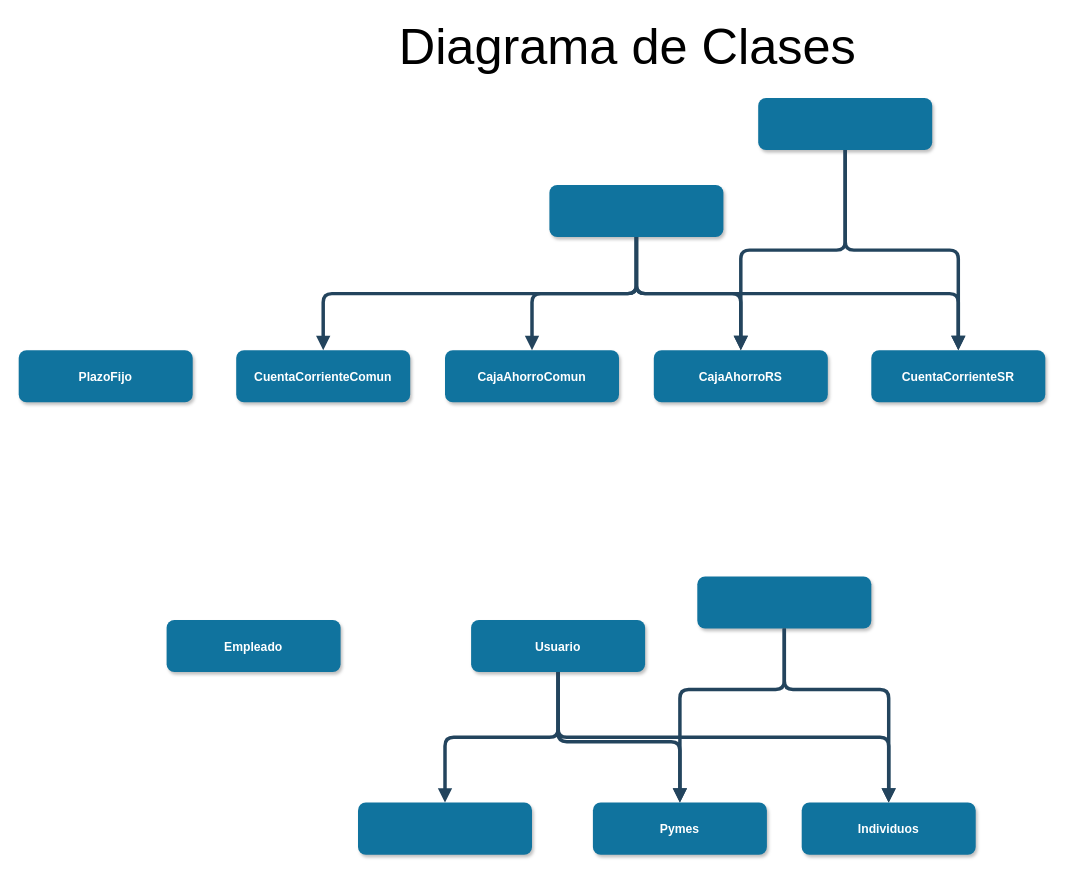
This 1065x875 diagram has some shape labels left out. Each missing label, with the centre of its shape:
"Administrador" belongs at point 445,829.
"Clientes" belongs at point 784,603.
"Cuentas" belongs at point 636,212.
"Saldo Retenido" belongs at point 845,125.
